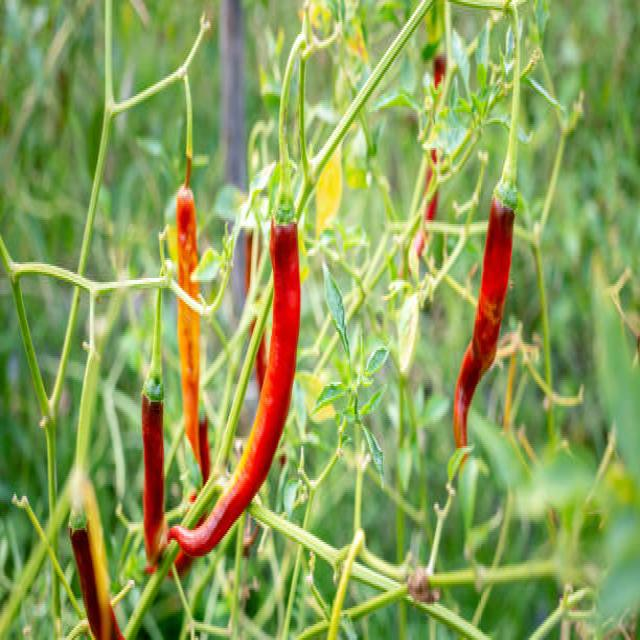Ripe: (168, 222, 300, 568), (454, 198, 512, 446), (143, 378, 166, 568)
